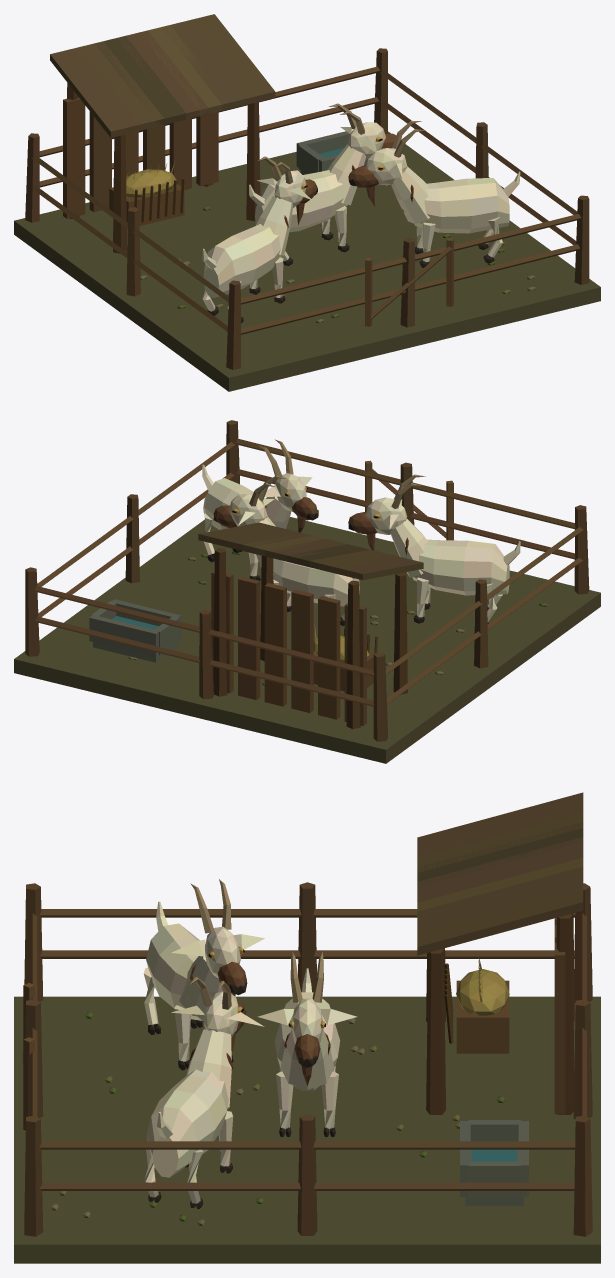
The model's file is elevage_chevre_moyen.glb.
3 renders of one model, top to bottom at view 1: azimuth 30°, elevation 25°; view 2: azimuth 150°, elevation 25°; view 3: azimuth 270°, elevation 25°, orthographic. The views are drawn at different scales.
Visible parts, largest first — view 1: Enclos_moyen, Chevre_02, Chevre_01, Chevre_00; view 2: Enclos_moyen, Chevre_01, Chevre_02, Chevre_00; view 3: Enclos_moyen, Chevre_02, Chevre_01, Chevre_00.
Part boxes in pixels (box(x1,y1,x2,y2)): Enclos_moyen: box(14, 14, 600, 391); Chevre_02: box(348, 120, 520, 267); Chevre_01: box(202, 156, 317, 323); Chevre_00: box(249, 103, 396, 265); Enclos_moyen: box(14, 420, 600, 763); Chevre_01: box(348, 474, 520, 623); Chevre_02: box(202, 439, 318, 580); Chevre_00: box(213, 475, 359, 625); Enclos_moyen: box(14, 792, 600, 1263); Chevre_02: box(144, 977, 264, 1208); Chevre_01: box(143, 879, 264, 1070); Chevre_00: box(257, 952, 357, 1136).
Size of the model in its own units: 0.502 by 0.2293 by 0.502.
